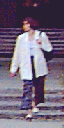person: (10, 18, 54, 113)
